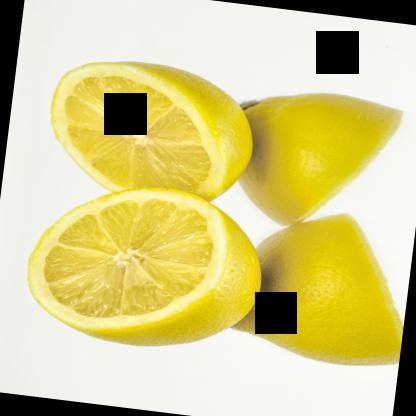lemon: (18, 172, 270, 356), (43, 54, 263, 206)
